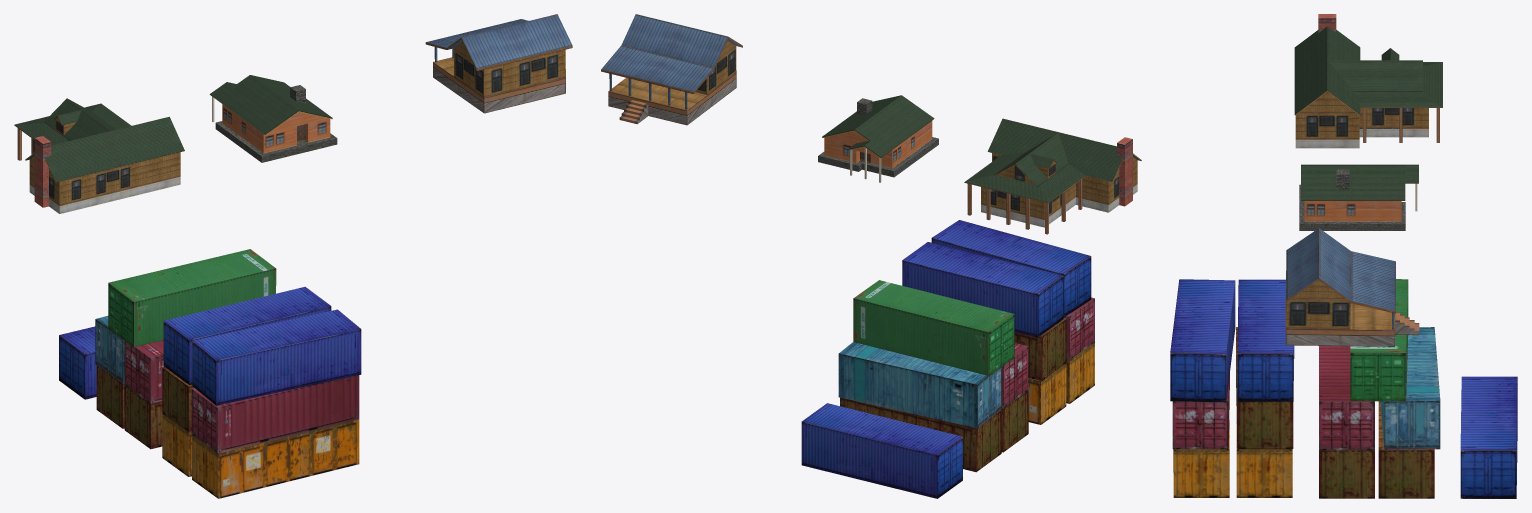
Rendered from vilage.fbx.
The picture shows the model from 3 angles, left to right: view 1: azimuth 30°, elevation 25°; view 2: azimuth 150°, elevation 25°; view 3: azimuth 270°, elevation 25°; orthographic projection. The views are drawn at different scales.
Visible parts, largest first — view 1: house_3__3_, stcontainerwhitetwo__64_, house_2__3_, stcontainergreen__28_, stcontainerblue__5_, stcontainerorange__19_, house_1__8_, stcontainerwhitetwo__63_, stcontainerwhitetwo__65_, stcontainerblue__42_, stcontainergreentwo__30_, stcontainerred__51_ (+3 smaller); view 2: house_3__3_, house_2__3_, stcontainerwhitetwo__65_, stcontainergreen__28_, stcontainerred__51_, stcontainerwhitetwo__63_, house_1__8_, stcontainerwhitetwo__64_, stcontainergreentwo__31_, stcontainergreentwo__12_, stcontainerorange__18_, stcontainerblue__5_ (+3 smaller); view 3: house_3__3_, house_2__3_, house_1__8_, stcontainerwhitetwo__64_, stcontainerwhitetwo__65_, stcontainerwhitetwo__63_, stcontainerred__51_, stcontainerblue__42_, stcontainergreen__28_, stcontainergreentwo__31_, stcontainergreentwo__12_, stcontainerblue__5_ (+3 smaller).
Part boxes in pixels (x1=…): house_3__3_: x1=14, y1=98, x2=184, y2=213; stcontainerwhitetwo__64_: x1=192, y1=309, x2=361, y2=405; house_2__3_: x1=425, y1=14, x2=572, y2=113; stcontainergreen__28_: x1=108, y1=249, x2=276, y2=347; stcontainerblue__5_: x1=191, y1=375, x2=359, y2=453; stcontainerorange__19_: x1=192, y1=419, x2=359, y2=498; house_1__8_: x1=209, y1=75, x2=337, y2=162; stcontainerwhitetwo__63_: x1=163, y1=287, x2=331, y2=384; stcontainerwhitetwo__65_: x1=59, y1=326, x2=96, y2=399; stcontainerblue__42_: x1=124, y1=340, x2=163, y2=403; stcontainergreentwo__30_: x1=124, y1=385, x2=162, y2=449; stcontainerred__51_: x1=95, y1=316, x2=124, y2=382; house_3__3_: x1=964, y1=118, x2=1141, y2=234; house_2__3_: x1=601, y1=14, x2=742, y2=125; stcontainerwhitetwo__65_: x1=801, y1=403, x2=962, y2=498; stcontainergreen__28_: x1=853, y1=280, x2=1014, y2=375; stcontainerred__51_: x1=838, y1=342, x2=1001, y2=428; stcontainerwhitetwo__63_: x1=902, y1=242, x2=1063, y2=337; house_1__8_: x1=818, y1=95, x2=938, y2=182; stcontainerwhitetwo__64_: x1=931, y1=220, x2=1091, y2=317; stcontainergreentwo__31_: x1=840, y1=397, x2=1001, y2=472; stcontainergreentwo__12_: x1=1014, y1=318, x2=1066, y2=380; stcontainerorange__18_: x1=1028, y1=363, x2=1066, y2=424; stcontainerblue__5_: x1=1064, y1=297, x2=1094, y2=360; house_3__3_: x1=1294, y1=14, x2=1442, y2=148; house_2__3_: x1=1285, y1=228, x2=1419, y2=346; house_1__8_: x1=1299, y1=164, x2=1418, y2=230; stcontainerwhitetwo__64_: x1=1170, y1=279, x2=1235, y2=402; stcontainerwhitetwo__65_: x1=1460, y1=376, x2=1517, y2=498; stcontainerwhitetwo__63_: x1=1237, y1=279, x2=1294, y2=401; stcontainerred__51_: x1=1380, y1=327, x2=1440, y2=449; stcontainerblue__42_: x1=1319, y1=346, x2=1374, y2=450; stcontainergreen__28_: x1=1350, y1=279, x2=1408, y2=401; stcontainergreentwo__31_: x1=1378, y1=401, x2=1434, y2=498; stcontainergreentwo__12_: x1=1236, y1=327, x2=1293, y2=449; stcontainerblue__5_: x1=1172, y1=373, x2=1229, y2=449.
Size of the model in its own units: 3033 by 1892 by 1658.
1 material, 1 textured.
